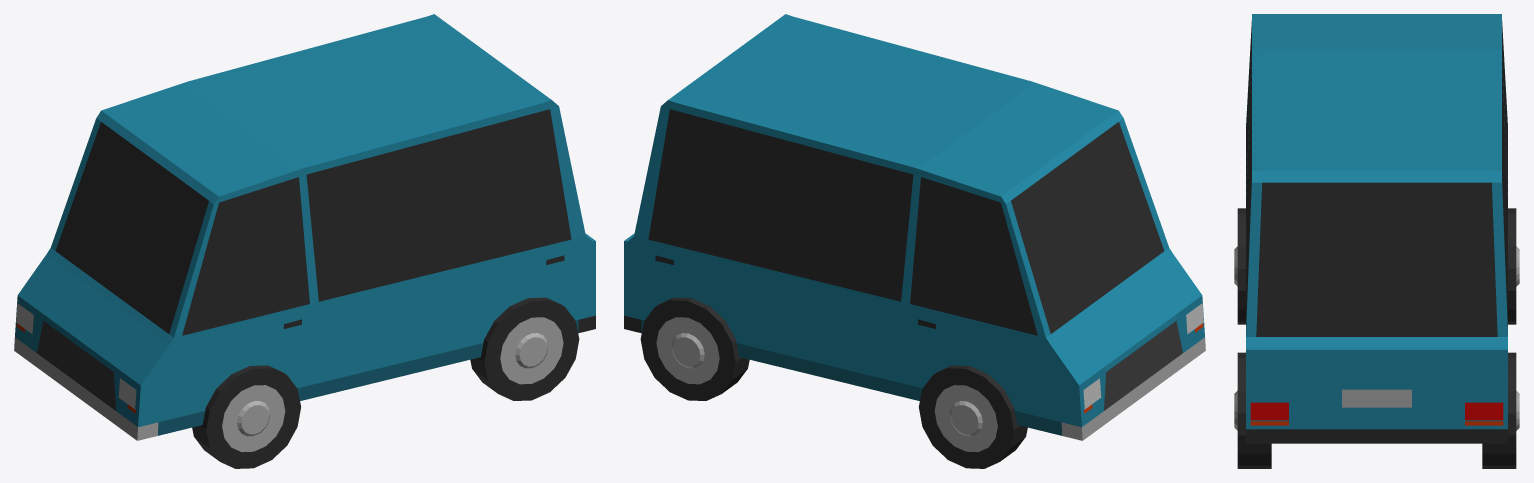
File: Car2b.fbx
3 views of the same model, side by side, from view 1: azimuth 30°, elevation 25°; view 2: azimuth 150°, elevation 25°; view 3: azimuth 270°, elevation 25° (orthographic). The views are drawn at different scales.
Parts seen in each view (by area): view 1: Car2b, Car2b_FL, Car2b_RL; view 2: Car2b, Car2b_FR, Car2b_RR; view 3: Car2b, Car2b_RL, Car2b_RR, Car2b_FL, Car2b_FR.
Boxes of the visible parts, x1,y1,x2,y2 form: Car2b: (14,14,595,440); Car2b_FL: (192,365,300,468); Car2b_RL: (470,297,579,400); Car2b: (624,14,1205,440); Car2b_FR: (919,365,1027,468); Car2b_RR: (640,297,749,400); Car2b: (1246,14,1507,443); Car2b_RL: (1234,352,1271,468); Car2b_RR: (1482,352,1519,468); Car2b_FL: (1234,208,1245,324); Car2b_FR: (1508,208,1519,324).
Bounding box in the file's own units: 3.34 × 2.01 × 1.69.
